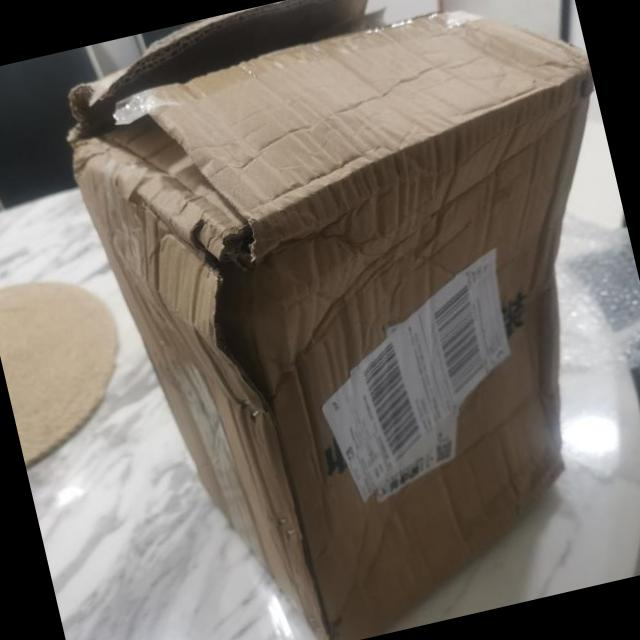box: (51, 22, 603, 605)
opened: (145, 25, 602, 443)
